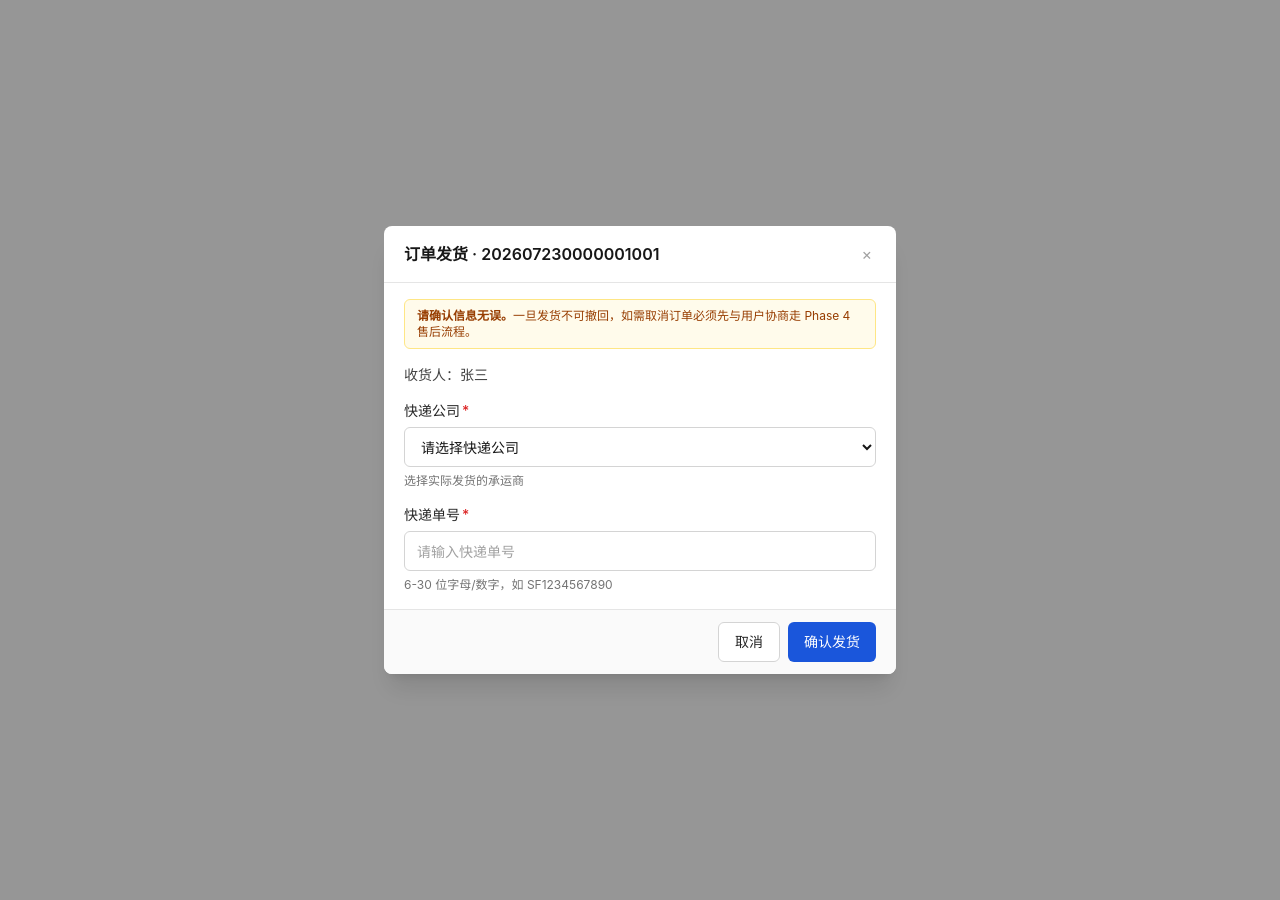
Test: ShipOrderModal › tracking_no 太短时报错
Select "顺丰速运" in the dropdown labelled "快递公司*": (640, 447) [404,427,876,467]
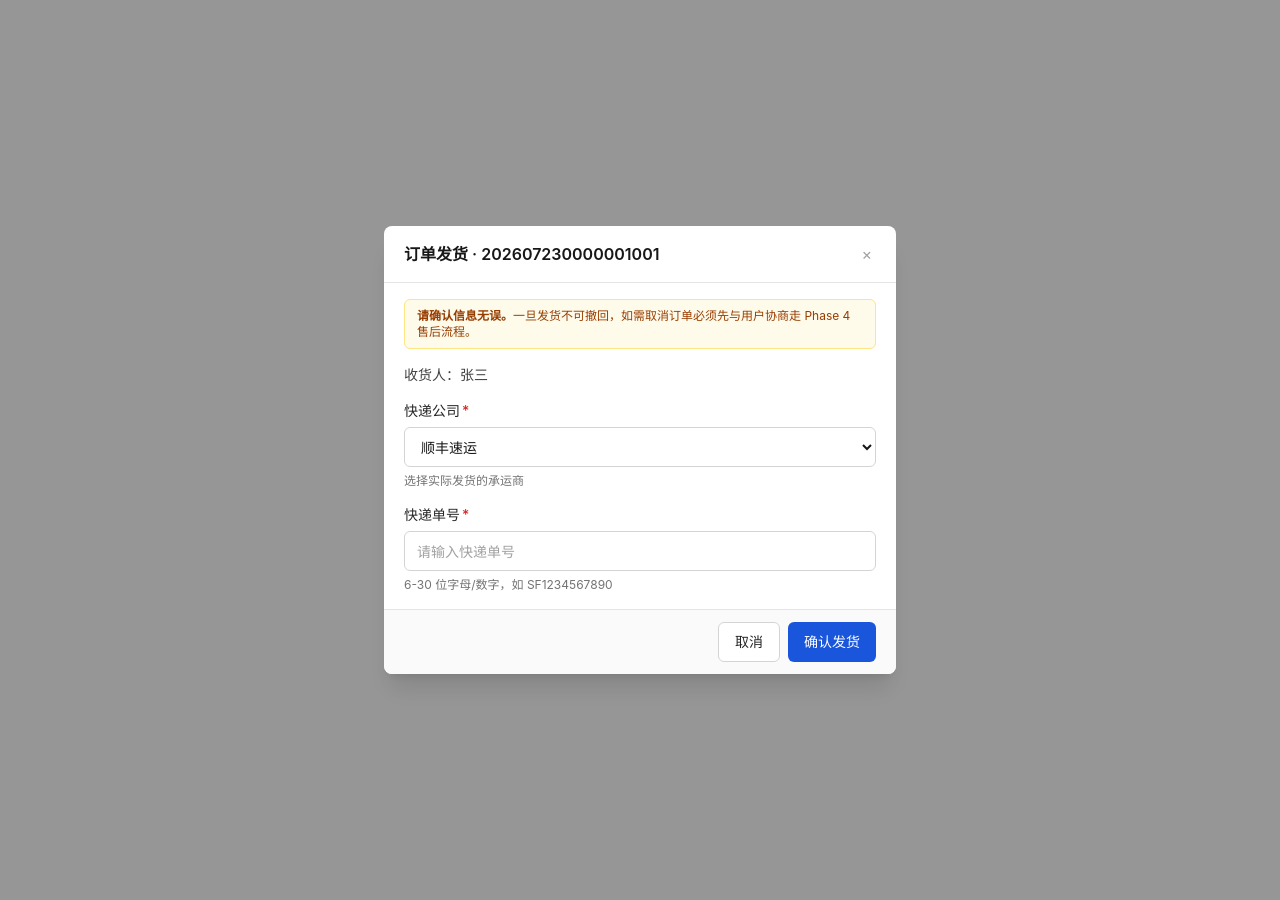
In the field with placeholder "请输入快递单号": (640, 551) [404,531,876,571], type "SF12"
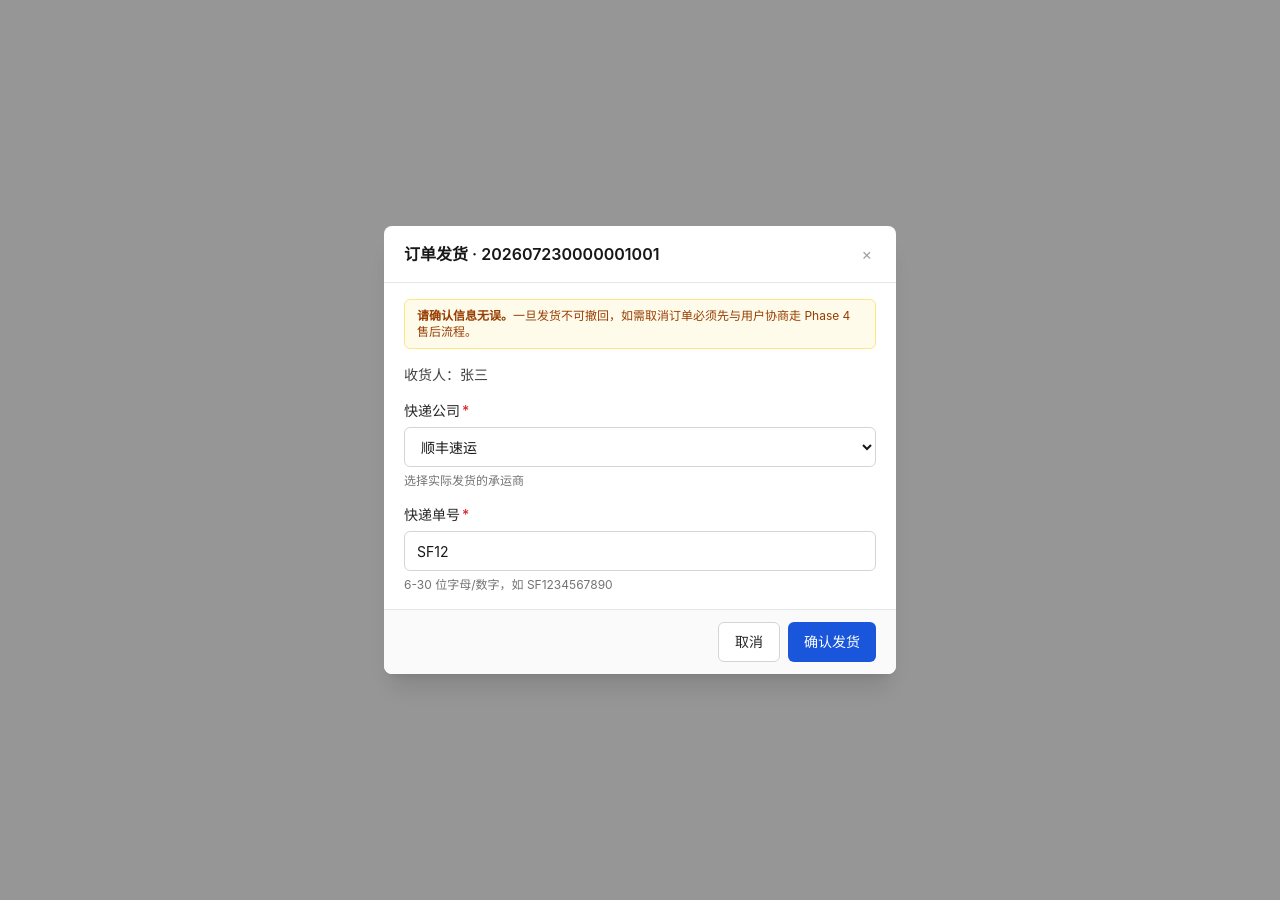
Click the button "确认发货": (832, 642) [788,622,876,662]
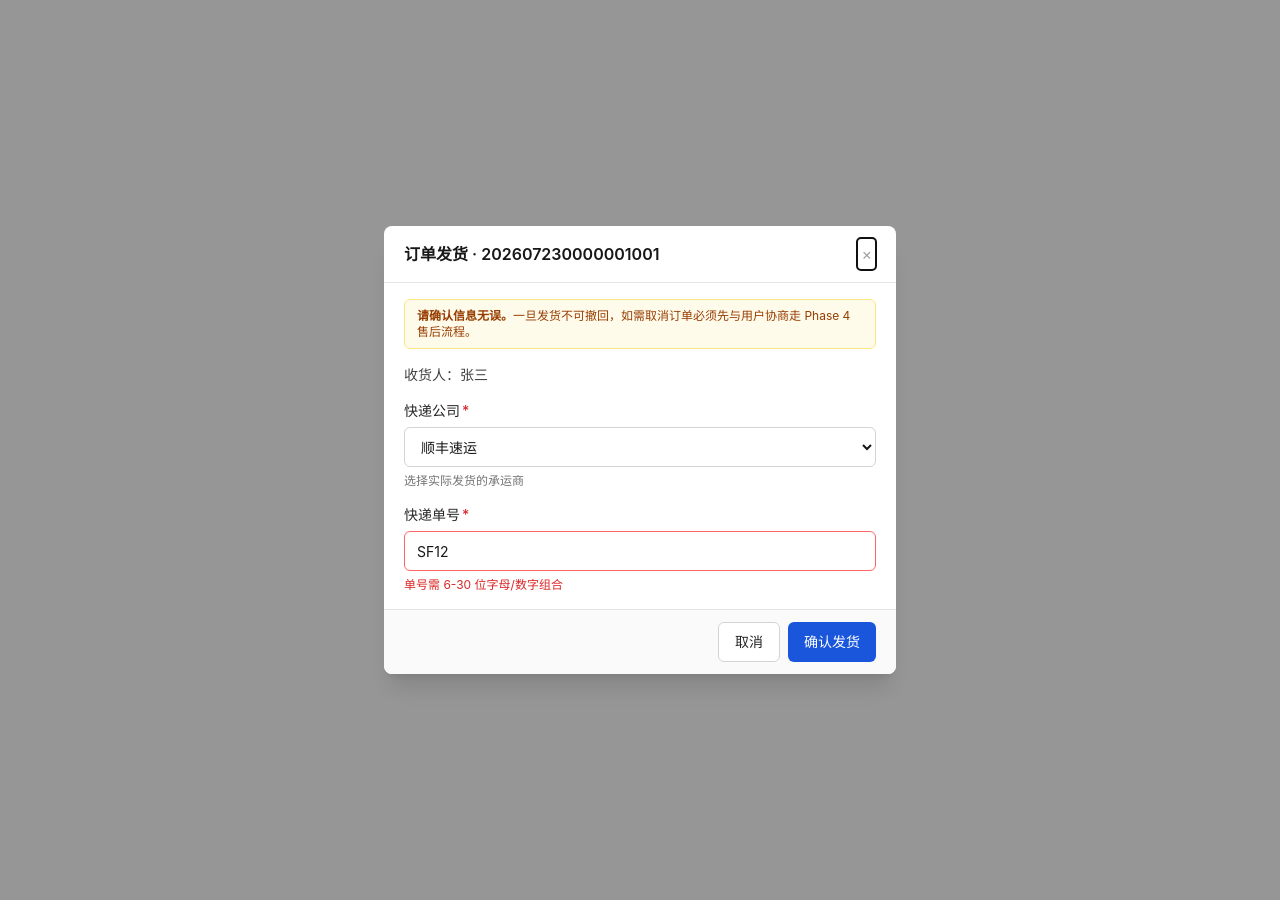
Expected: the text "单号需 6-30 位字母/数字组合" is shown, [404,577,563,592]
